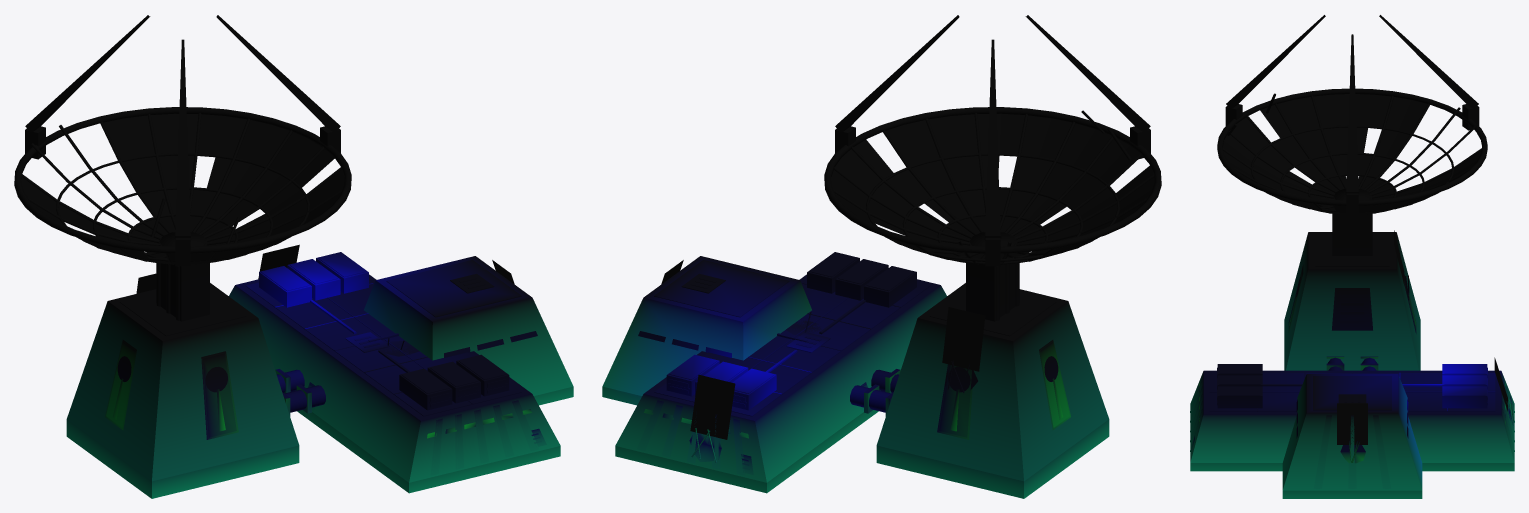
File: hpgstation_damaged.glb
3 renders of one model, left to right at view 1: azimuth 30°, elevation 25°; view 2: azimuth 150°, elevation 25°; view 3: azimuth 270°, elevation 25°, orthographic. The views are drawn at different scales.
Parts seen in each view (by area): view 1: lod0; view 2: lod0; view 3: lod0.
Boxes of the visible parts, box(x1,y1,x2,y2) form: lod0: box(14, 15, 573, 498); lod0: box(602, 15, 1161, 498); lod0: box(1190, 15, 1514, 498).
Size of what is drawn, in the model's own units: 58.88 by 48.68 by 41.89.
